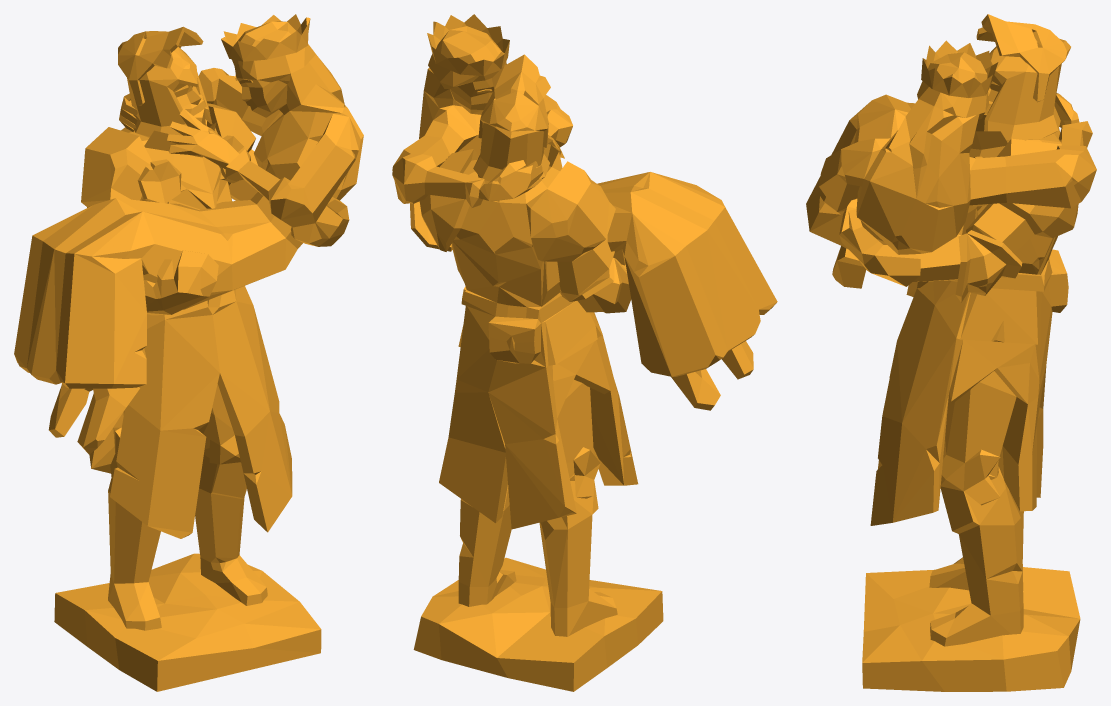
The model's file is SM_Statue_Knight_Princess_Lovers_Fantasy.fbx.
3 renders of one model, left to right at view 1: azimuth 30°, elevation 25°; view 2: azimuth 150°, elevation 25°; view 3: azimuth 270°, elevation 25°, orthographic. The views are drawn at different scales.
Visible parts, largest first — view 1: SM_Statue_Knight_Princess_Lovers_Fantasy; view 2: SM_Statue_Knight_Princess_Lovers_Fantasy; view 3: SM_Statue_Knight_Princess_Lovers_Fantasy.
Part boxes in pixels (left/top/right/bottom): SM_Statue_Knight_Princess_Lovers_Fantasy: left=14, top=14, right=363, bottom=691; SM_Statue_Knight_Princess_Lovers_Fantasy: left=392, top=14, right=777, bottom=691; SM_Statue_Knight_Princess_Lovers_Fantasy: left=806, top=14, right=1096, bottom=691.
Size of the model in its own units: 1.13 by 2 by 0.83.
